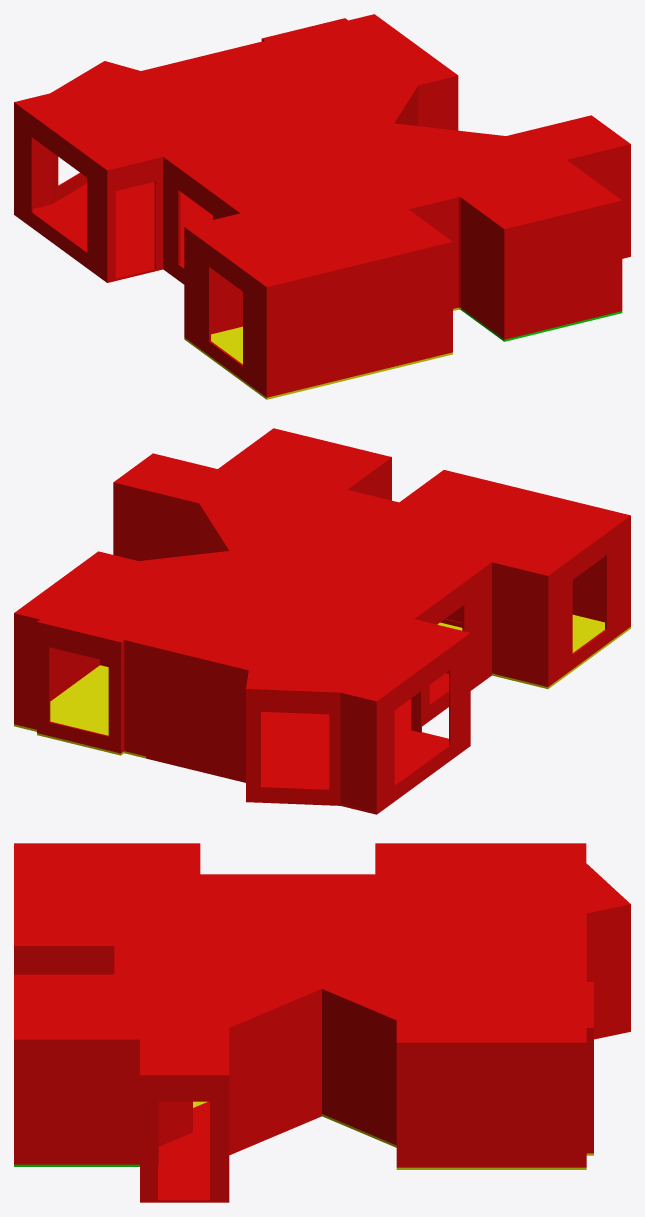
File: target_house_04_grp.fbx
3 renders of one model, top to bottom at view 1: azimuth 30°, elevation 25°; view 2: azimuth 150°, elevation 25°; view 3: azimuth 270°, elevation 25°, orthographic. The views are drawn at different scales.
Visible parts, largest first — view 1: target_house_04_ceiling, target_house_04_walls, target_house_04_floor; view 2: target_house_04_ceiling, target_house_04_walls, target_house_04_floor; view 3: target_house_04_ceiling, target_house_04_walls, target_house_04_floor.
Boxes of the visible parts, left/top/right/bottom form: target_house_04_ceiling: left=14, top=14, right=630, bottom=289; target_house_04_walls: left=14, top=41, right=630, bottom=397; target_house_04_floor: left=14, top=182, right=630, bottom=399; target_house_04_ceiling: left=14, top=428, right=630, bottom=703; target_house_04_walls: left=14, top=459, right=630, bottom=812; target_house_04_floor: left=14, top=614, right=630, bottom=814; target_house_04_ceiling: left=14, top=843, right=630, bottom=1077; target_house_04_walls: left=14, top=906, right=630, bottom=1200; target_house_04_floor: left=14, top=1029, right=630, bottom=1202.
Size of the model in its own units: 1040 by 267 by 1169.
